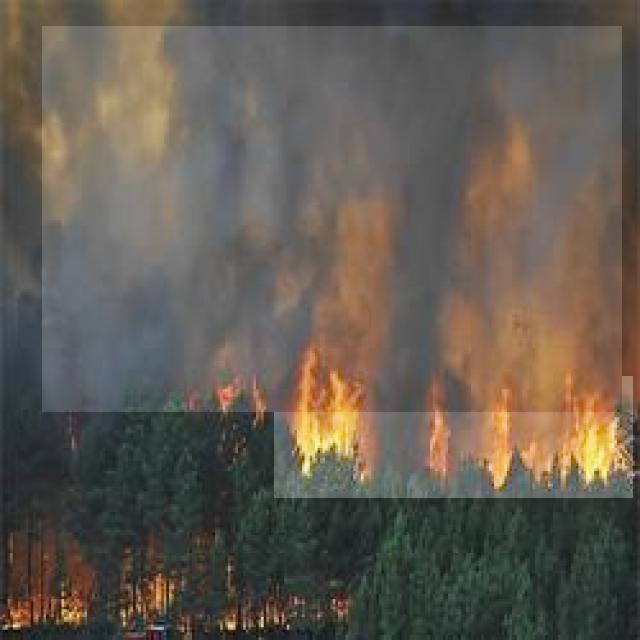Fire: (274, 376, 633, 498)
Smoke: (42, 26, 622, 412)
